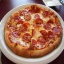pizza: (7, 5, 56, 59)
